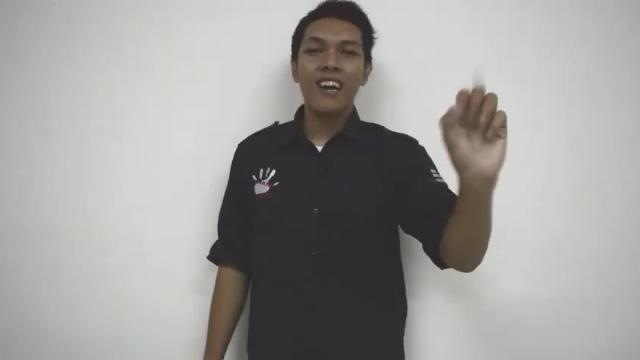S: (436, 80, 514, 182)
